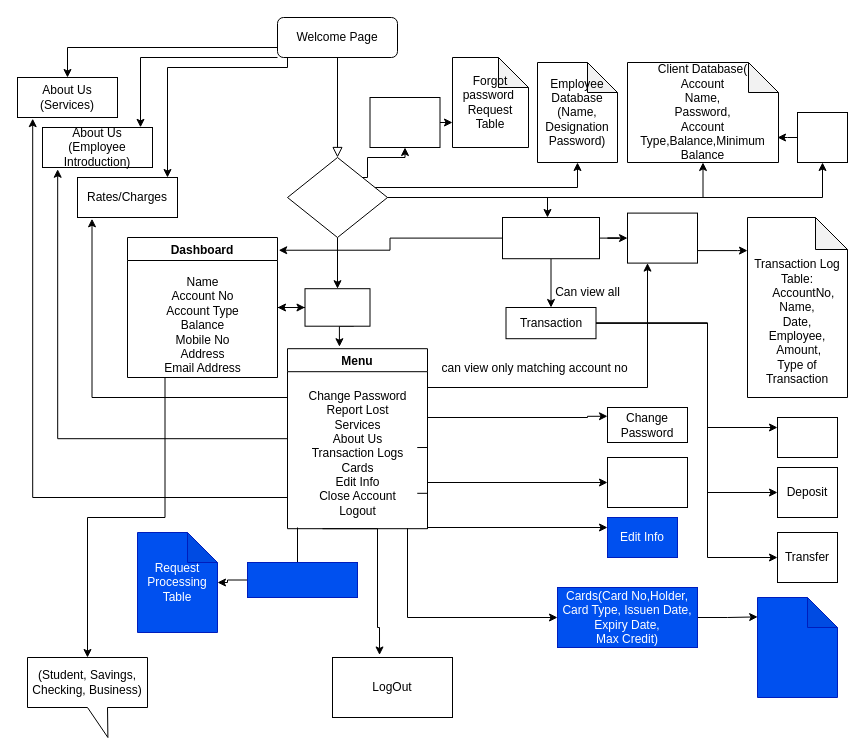
The diagram is 865 pixels wide and 755 high, and some of its shapes have lost their labels. The shapes that lost their labels are listed below. From the top down, each one's box as (x1, y1, x2, y2) in pixels, then its label:
(369, 96, 440, 148): Forgot password Form
(796, 112, 848, 162): New Account Form
(286, 156, 388, 238): Sign Up/SignIn
(502, 216, 600, 259): Dashboard (Employee View)
(626, 212, 698, 263): Transaction Logs
(304, 288, 370, 326): Client DashBoard
(776, 416, 838, 458): Withdraw
(606, 456, 688, 508): Close Account
(246, 562, 358, 598): Report Lost CheckBook/.PIN/Card
(756, 596, 838, 698): Card Table
